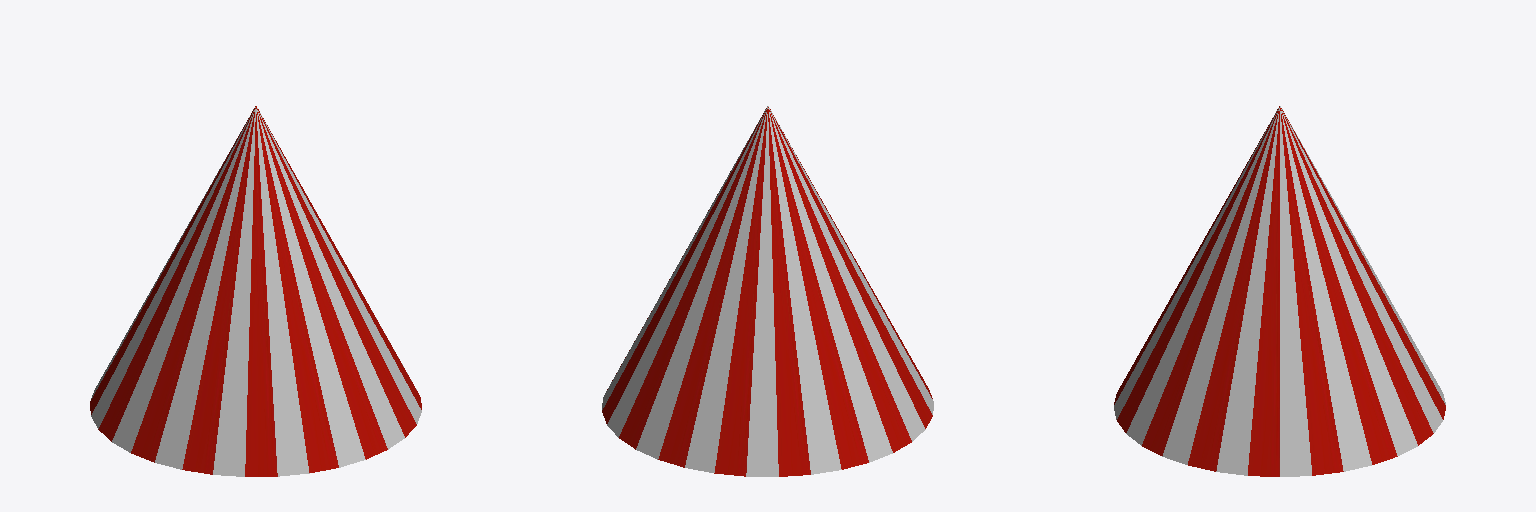
3 views of the same model, side by side, from view 1: azimuth 30°, elevation 25°; view 2: azimuth 150°, elevation 25°; view 3: azimuth 270°, elevation 25° (orthographic).
Parts seen in each view (by area): view 1: Cone; view 2: Cone; view 3: Cone.
Part boxes in pixels (x1,y1,x2,y2): Cone: (90,106,421,476); Cone: (602,106,933,476); Cone: (1114,106,1445,476).
Size of the model in its own units: 2 by 2 by 2.
Materials: 2 (1 with a texture image).